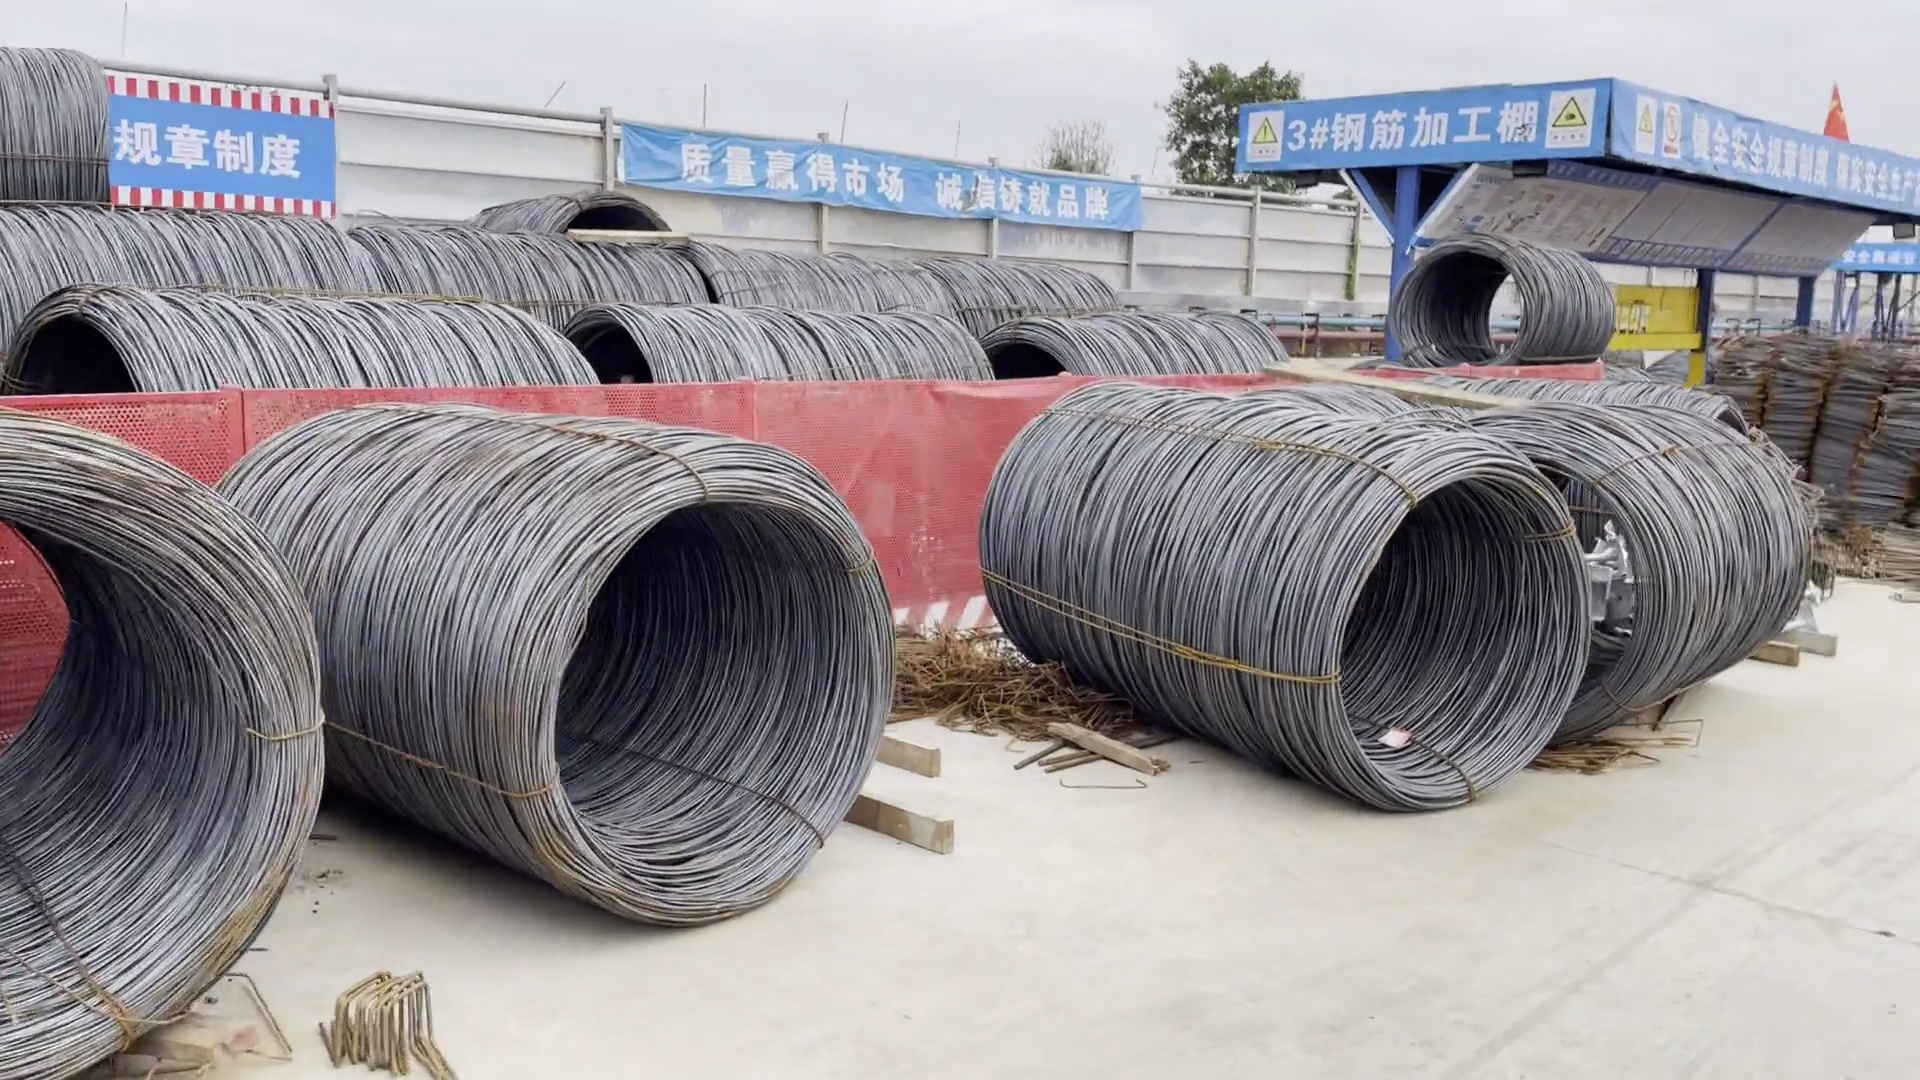slogan: (655, 127, 1125, 220)
